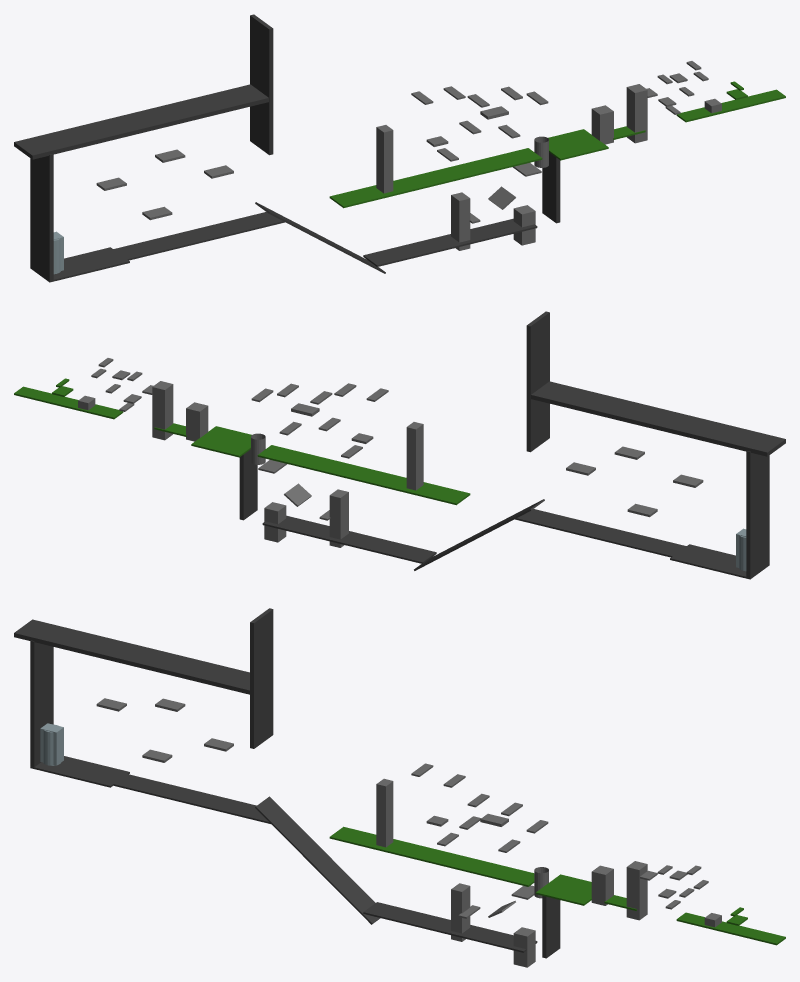
The model's file is stage3.obj.
3 renders of one model, top to bottom at view 1: azimuth 30°, elevation 25°; view 2: azimuth 150°, elevation 25°; view 3: azimuth 330°, elevation 25°, orthographic.
Visible parts, largest first — view 1: obj2, obj1; view 2: obj2, obj1; view 3: obj2, obj1.
Boxes of the visible parts, left/top/right/bottom form: obj2: left=14, top=14, right=747, bottom=282; obj1: left=53, top=73, right=785, bottom=270; obj2: left=52, top=311, right=785, bottom=579; obj1: left=14, top=370, right=746, bottom=567; obj2: left=14, top=608, right=747, bottom=958; obj1: left=40, top=698, right=785, bottom=967.
Size of the model in its own units: 9460 by 3376 by 534.
